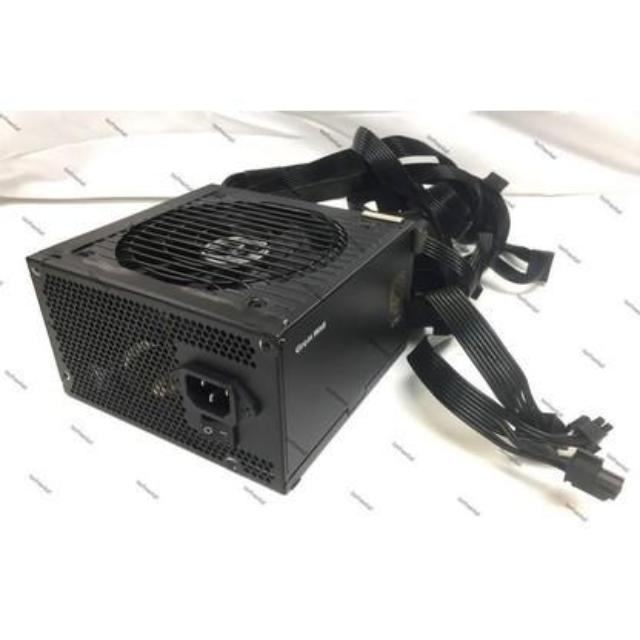PSU: (17, 172, 431, 516)
